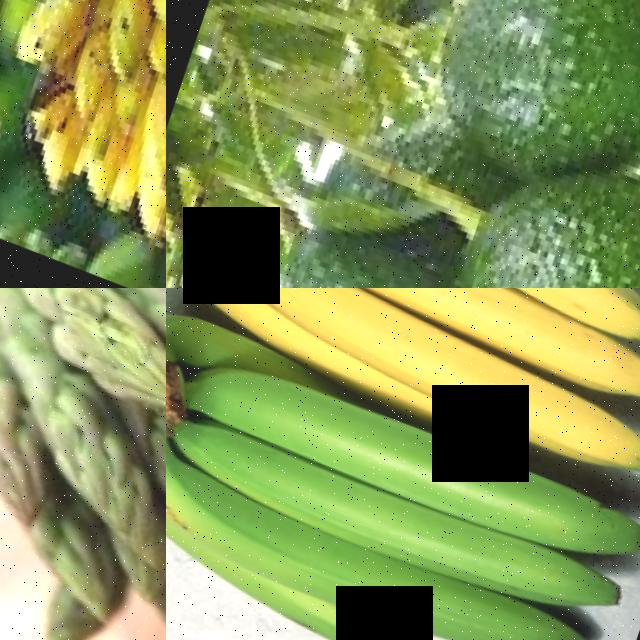asparagus: (15, 368, 166, 536), (5, 288, 166, 410)
avocado: (415, 0, 640, 219), (416, 82, 640, 288), (209, 159, 557, 288)
banana: (166, 289, 640, 640), (166, 288, 640, 479), (0, 0, 166, 288)
